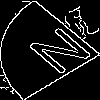N: (25, 25, 100, 84)
